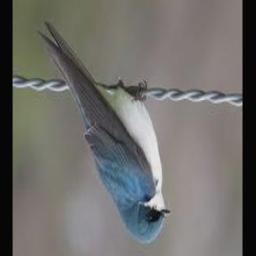Swallow: (37, 22, 172, 243)
